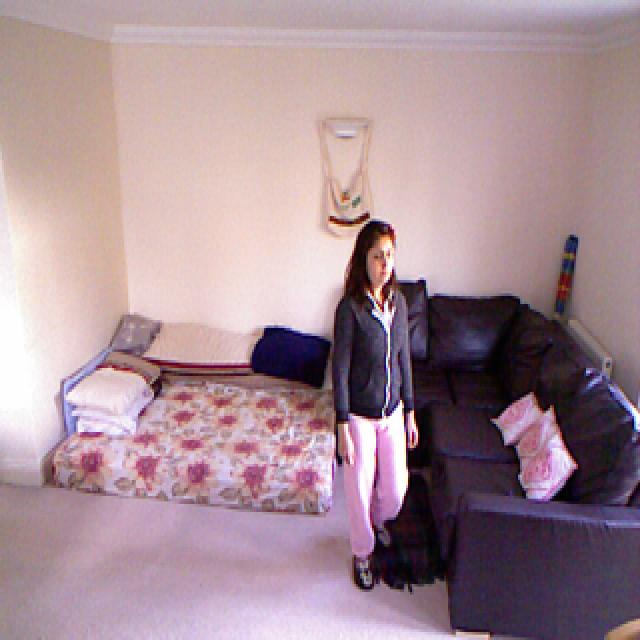standing: (330, 220, 420, 592)
